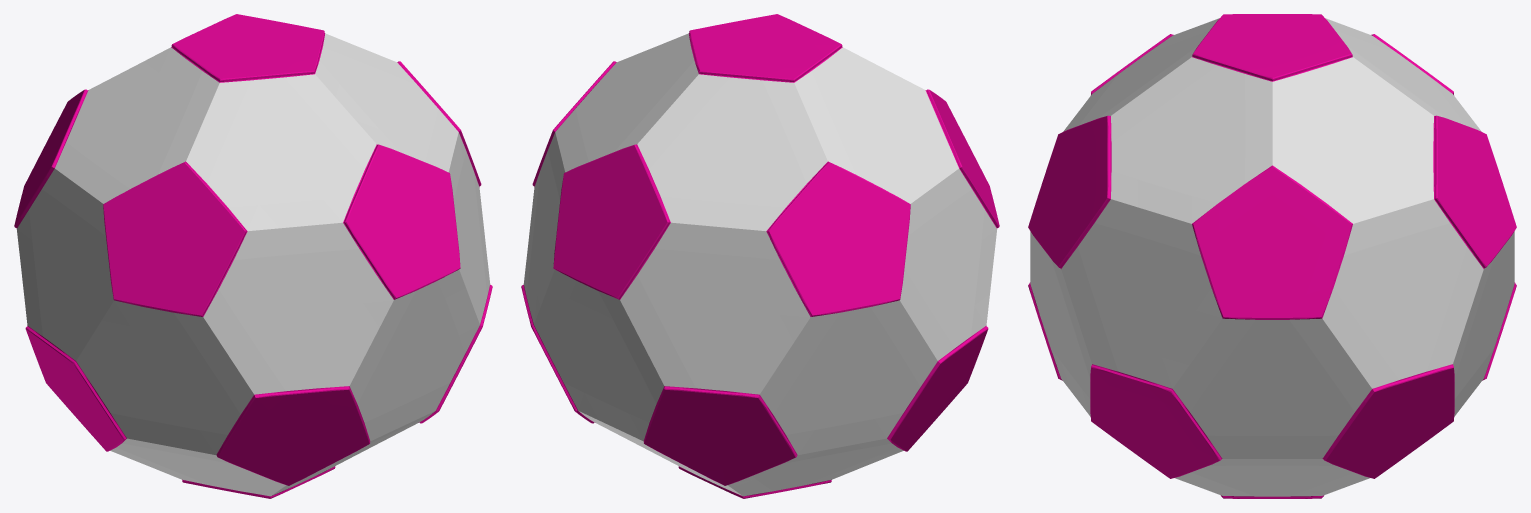
The model's file is Soccer.fbx.
The picture shows the model from 3 angles, left to right: view 1: azimuth 30°, elevation 25°; view 2: azimuth 150°, elevation 25°; view 3: azimuth 270°, elevation 25°; orthographic projection. The views are drawn at different scales.
Parts seen in each view (by area): view 1: ICO球; view 2: ICO球; view 3: ICO球.
Part boxes in pixels (bbox=[...]): ICO球: bbox=[14, 14, 492, 498]; ICO球: bbox=[521, 14, 999, 498]; ICO球: bbox=[1028, 14, 1516, 498].
Size of the model in its own units: 169 by 165 by 171.
